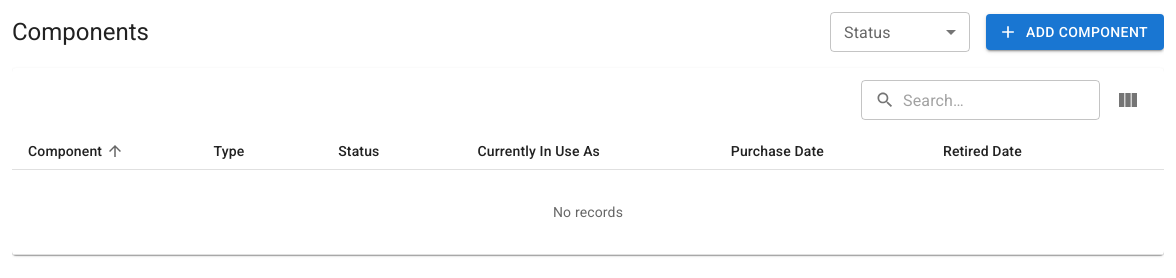
Test: ComponentList › status filter menu › shows translated status options in English
Click the dropdown named "Status": (900, 32) [830, 12, 970, 52]
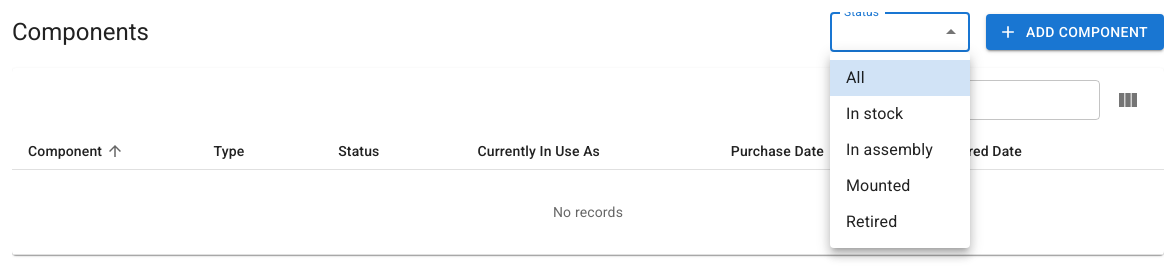
Expected: the option "In stock" is shown, [846, 104, 903, 123]
Expected: the option "Mounted" is shown, [846, 176, 910, 195]
Expected: the option "Retired" is shown, [846, 212, 897, 231]
